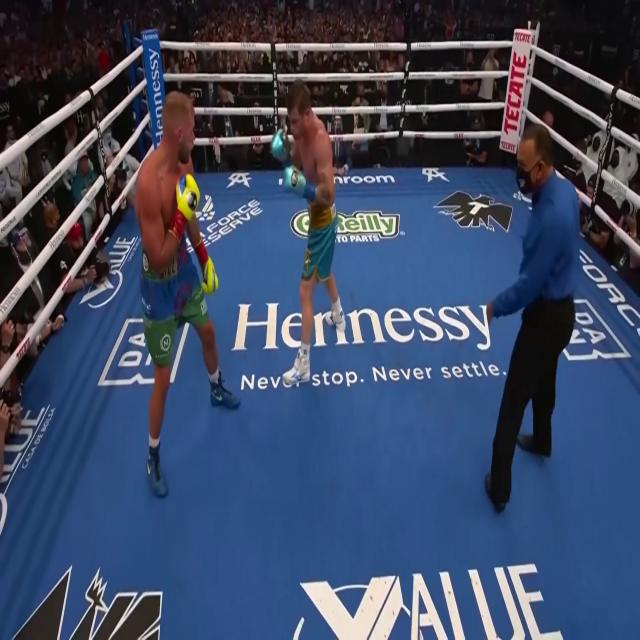boxer_1: (135, 91, 195, 274)
boxer_2: (288, 81, 335, 205)
gloves_1: (168, 173, 199, 240), (194, 236, 218, 294)
gloves_2: (270, 129, 317, 201)
